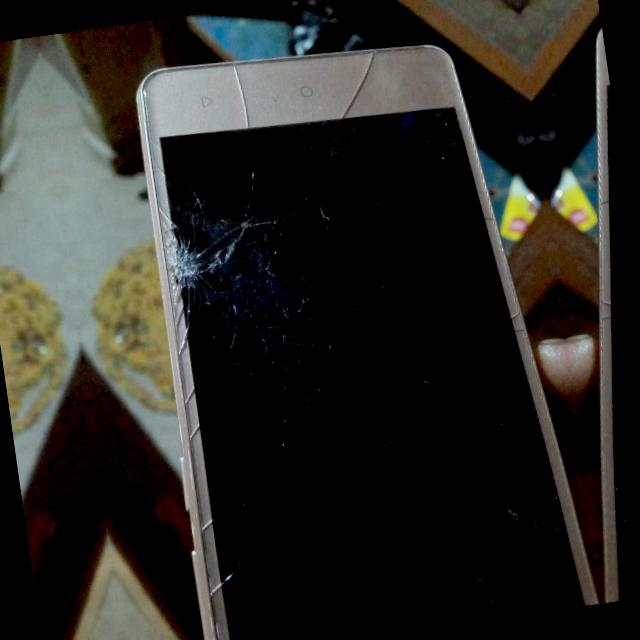phone_screen: (161, 108, 583, 639), (606, 85, 639, 599)
